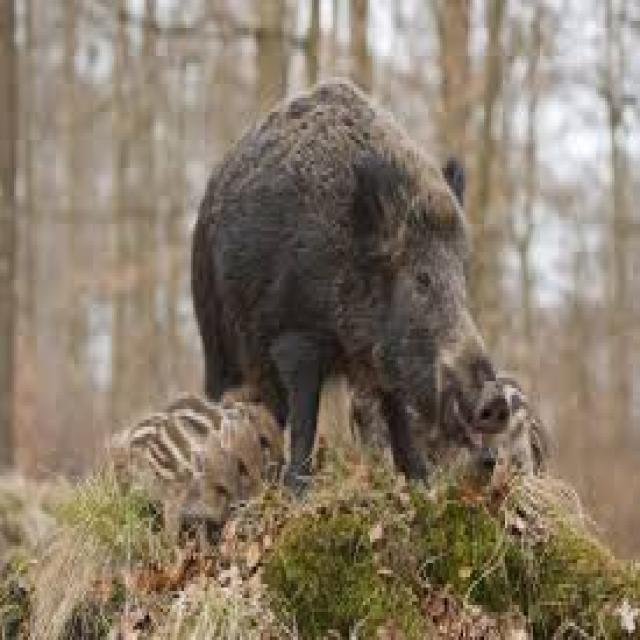Boar: (193, 66, 505, 494)
